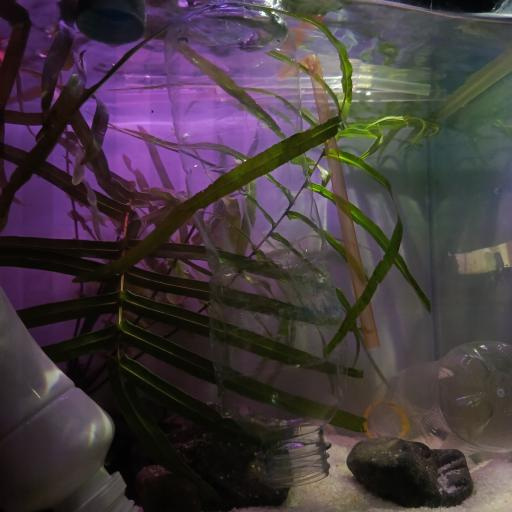bottle_cap: (75, 2, 148, 48)
plastic_bottle: (162, 1, 382, 488), (0, 289, 141, 512), (365, 345, 512, 461)
plastic_straw: (294, 49, 377, 351), (127, 70, 434, 97)
